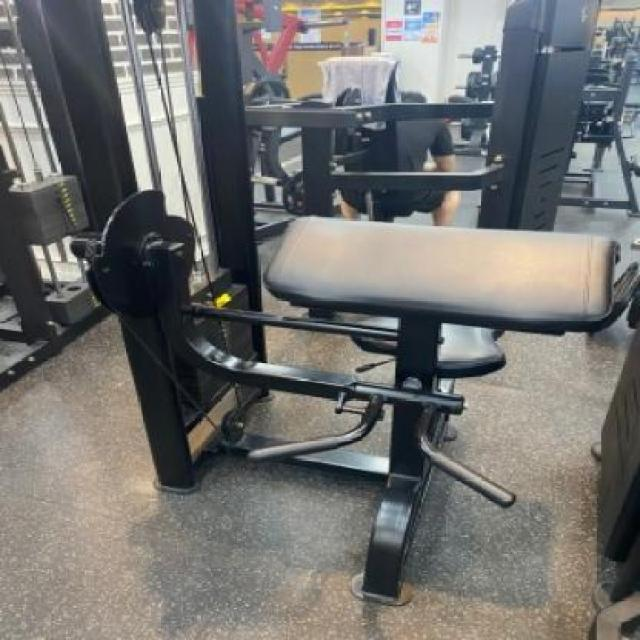arm curl machine: (72, 217, 640, 609)
